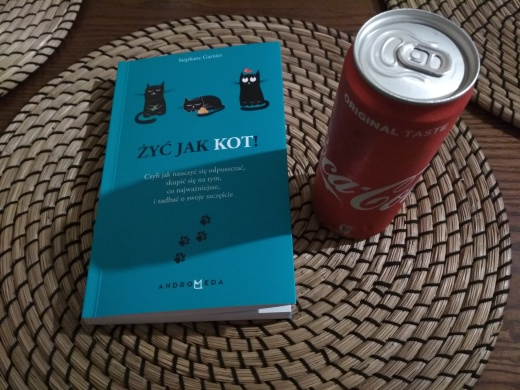cola: (302, 4, 482, 256)
